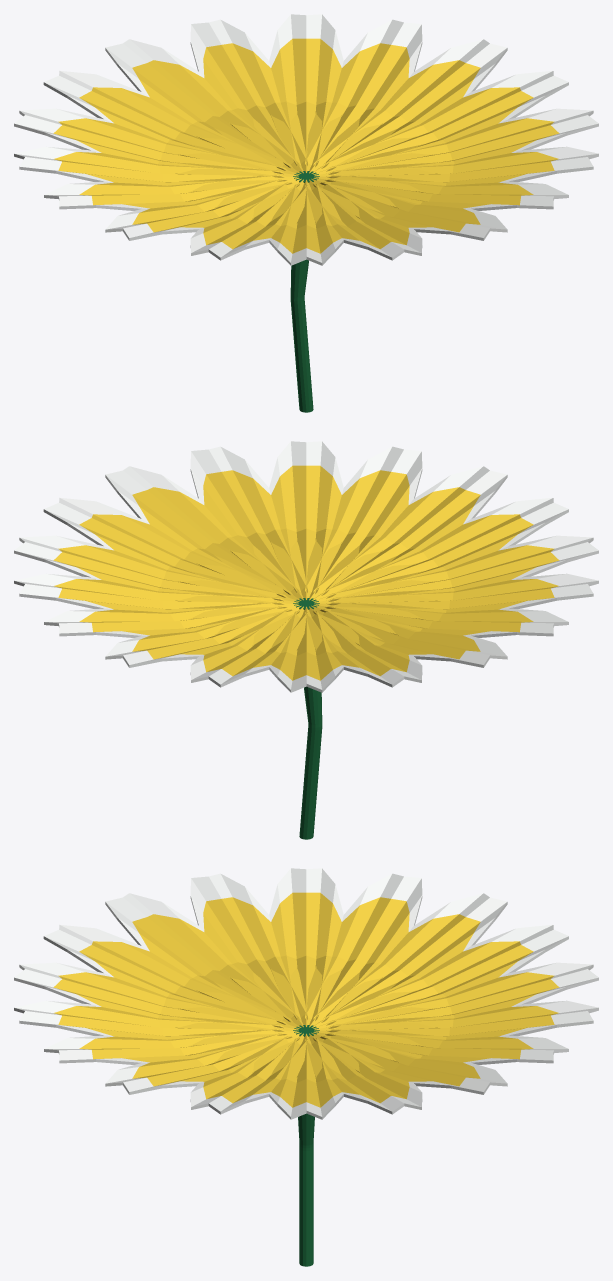
The model's file is Flower_9.fbx.
3 views of the same model, one above another, from view 1: azimuth 30°, elevation 25°; view 2: azimuth 150°, elevation 25°; view 3: azimuth 270°, elevation 25° (orthographic).
Parts seen in each view (by area): view 1: Flower_9; view 2: Flower_9; view 3: Flower_9.
Boxes of the visible parts, bbox=[...] form: Flower_9: bbox=[14, 14, 598, 412]; Flower_9: bbox=[14, 441, 598, 839]; Flower_9: bbox=[14, 868, 598, 1266].
Bounding box in the file's own units: 613 × 315 × 609.
